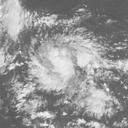cyclone: (32, 34, 97, 104)
